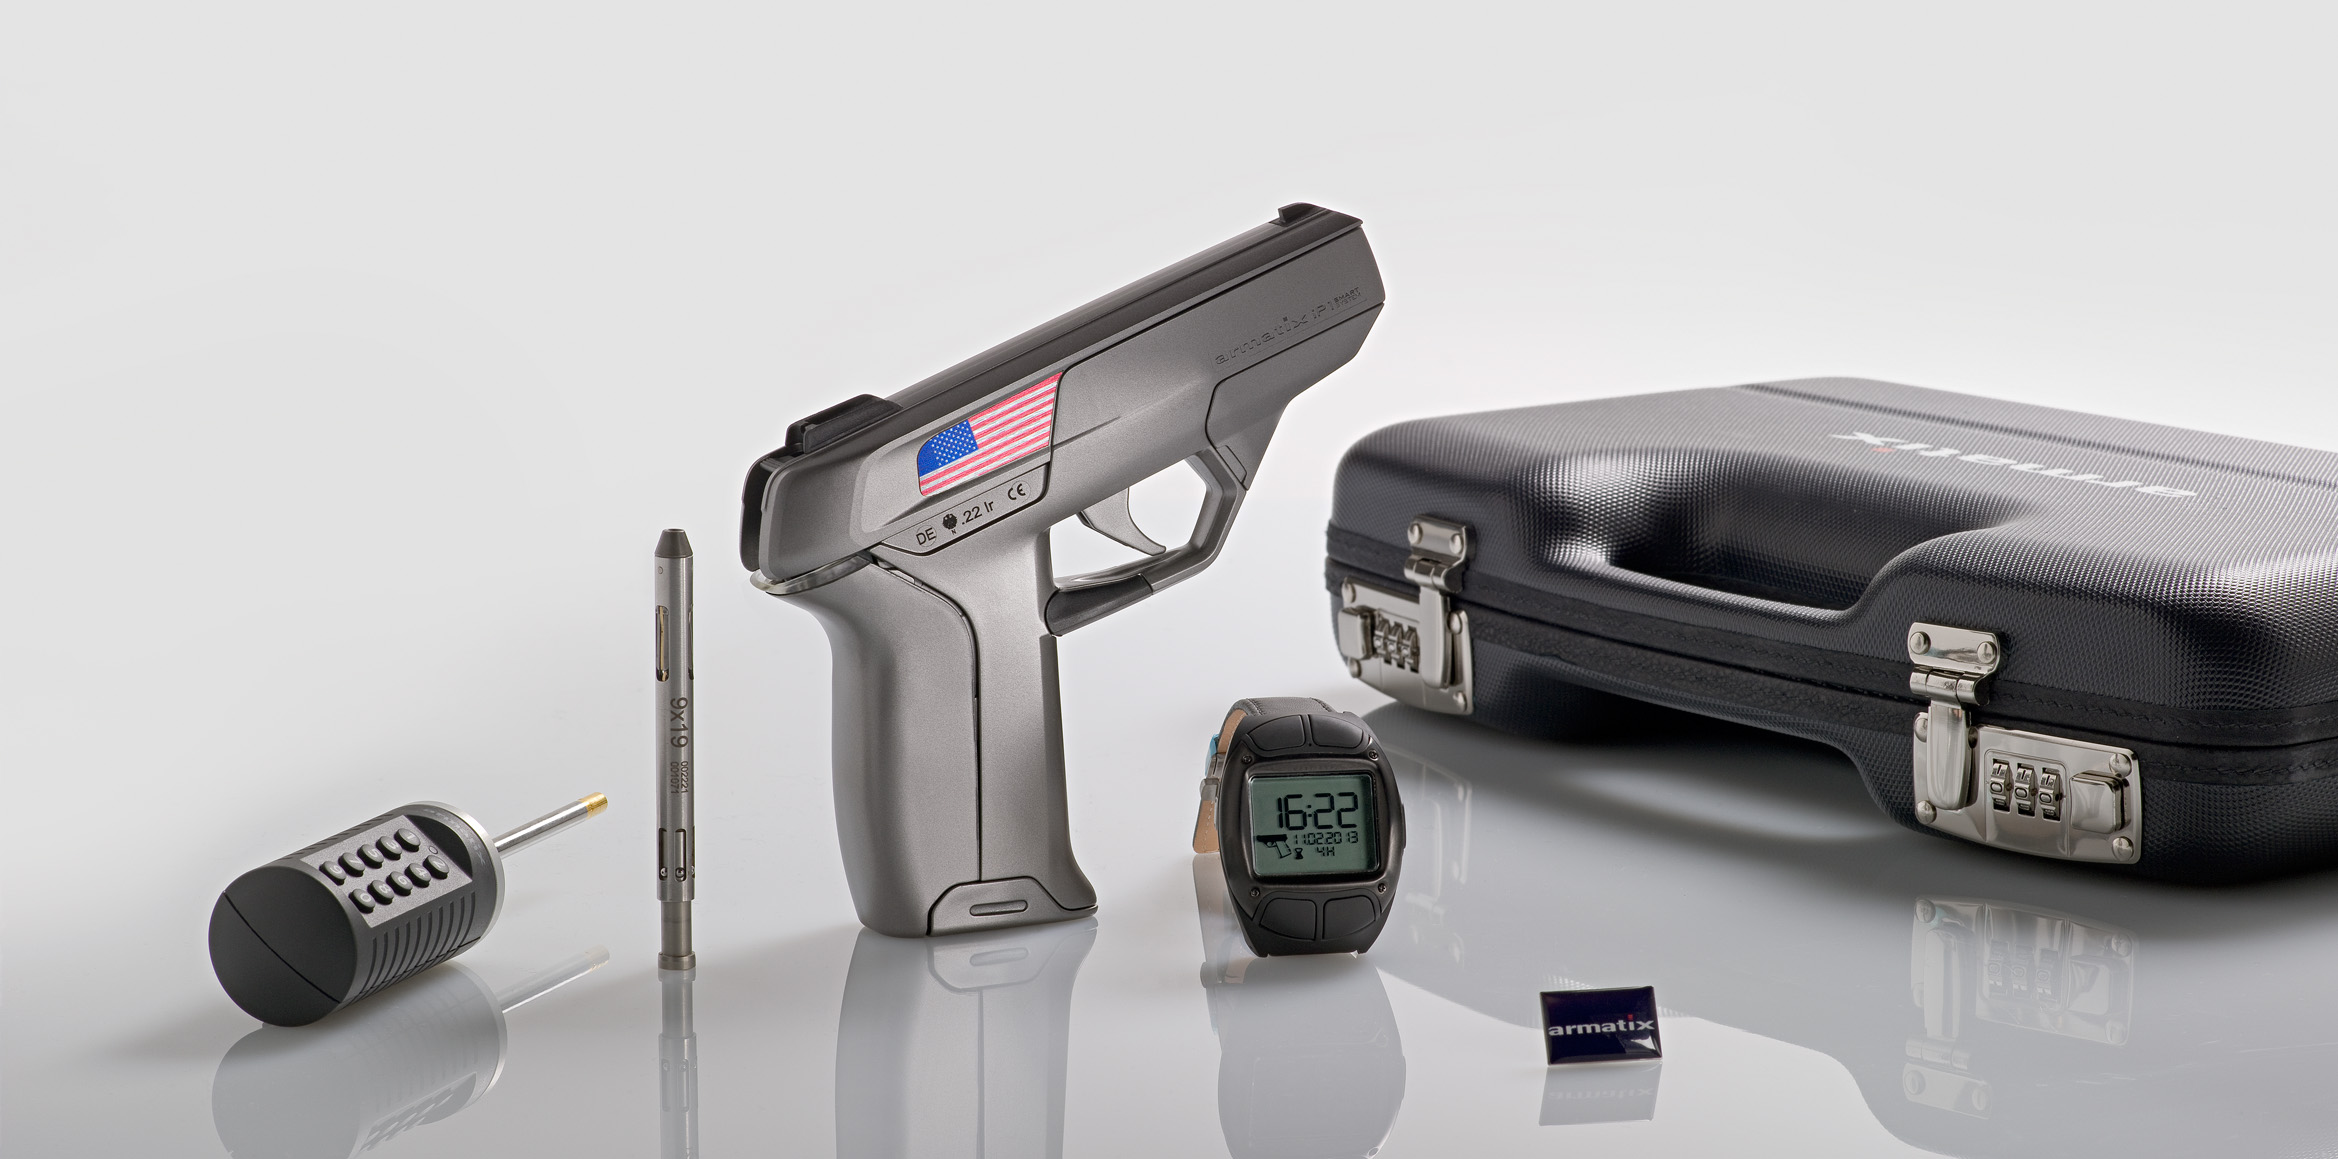gun: (716, 191, 1399, 958)
